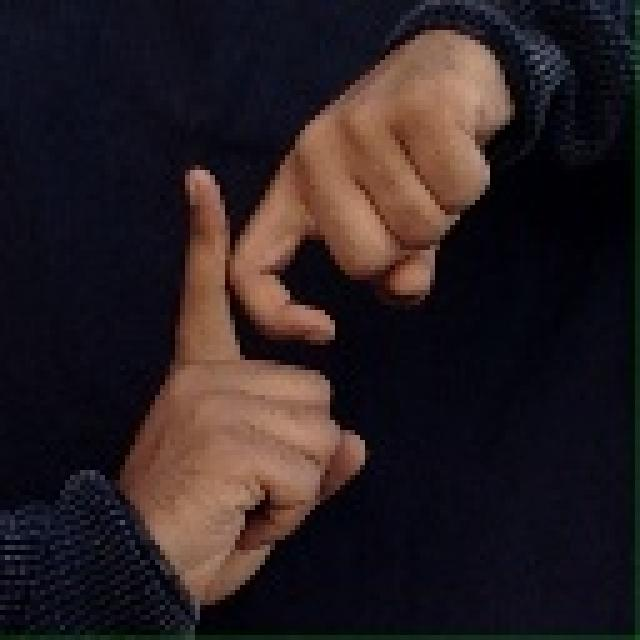Alphabet-K: (94, 22, 519, 640)
